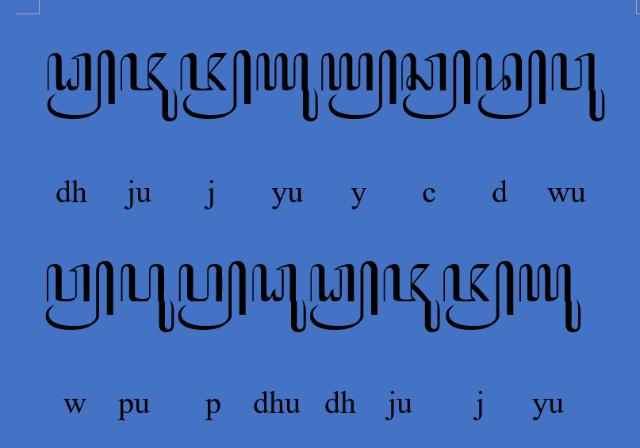-c: (400, 49, 472, 121)
-d: (475, 49, 549, 121)
-dh: (46, 48, 116, 122), (310, 261, 378, 331)
-j: (443, 260, 515, 332), (178, 50, 252, 120)
-p: (177, 258, 247, 332)
-y: (320, 49, 398, 121)
dhu: (252, 262, 308, 334)
ju: (120, 50, 180, 124), (382, 262, 442, 334)
pu: (119, 260, 175, 334)
w: (44, 260, 116, 332)
wu: (550, 51, 606, 123)
yu: (256, 50, 320, 124), (518, 262, 582, 334)
